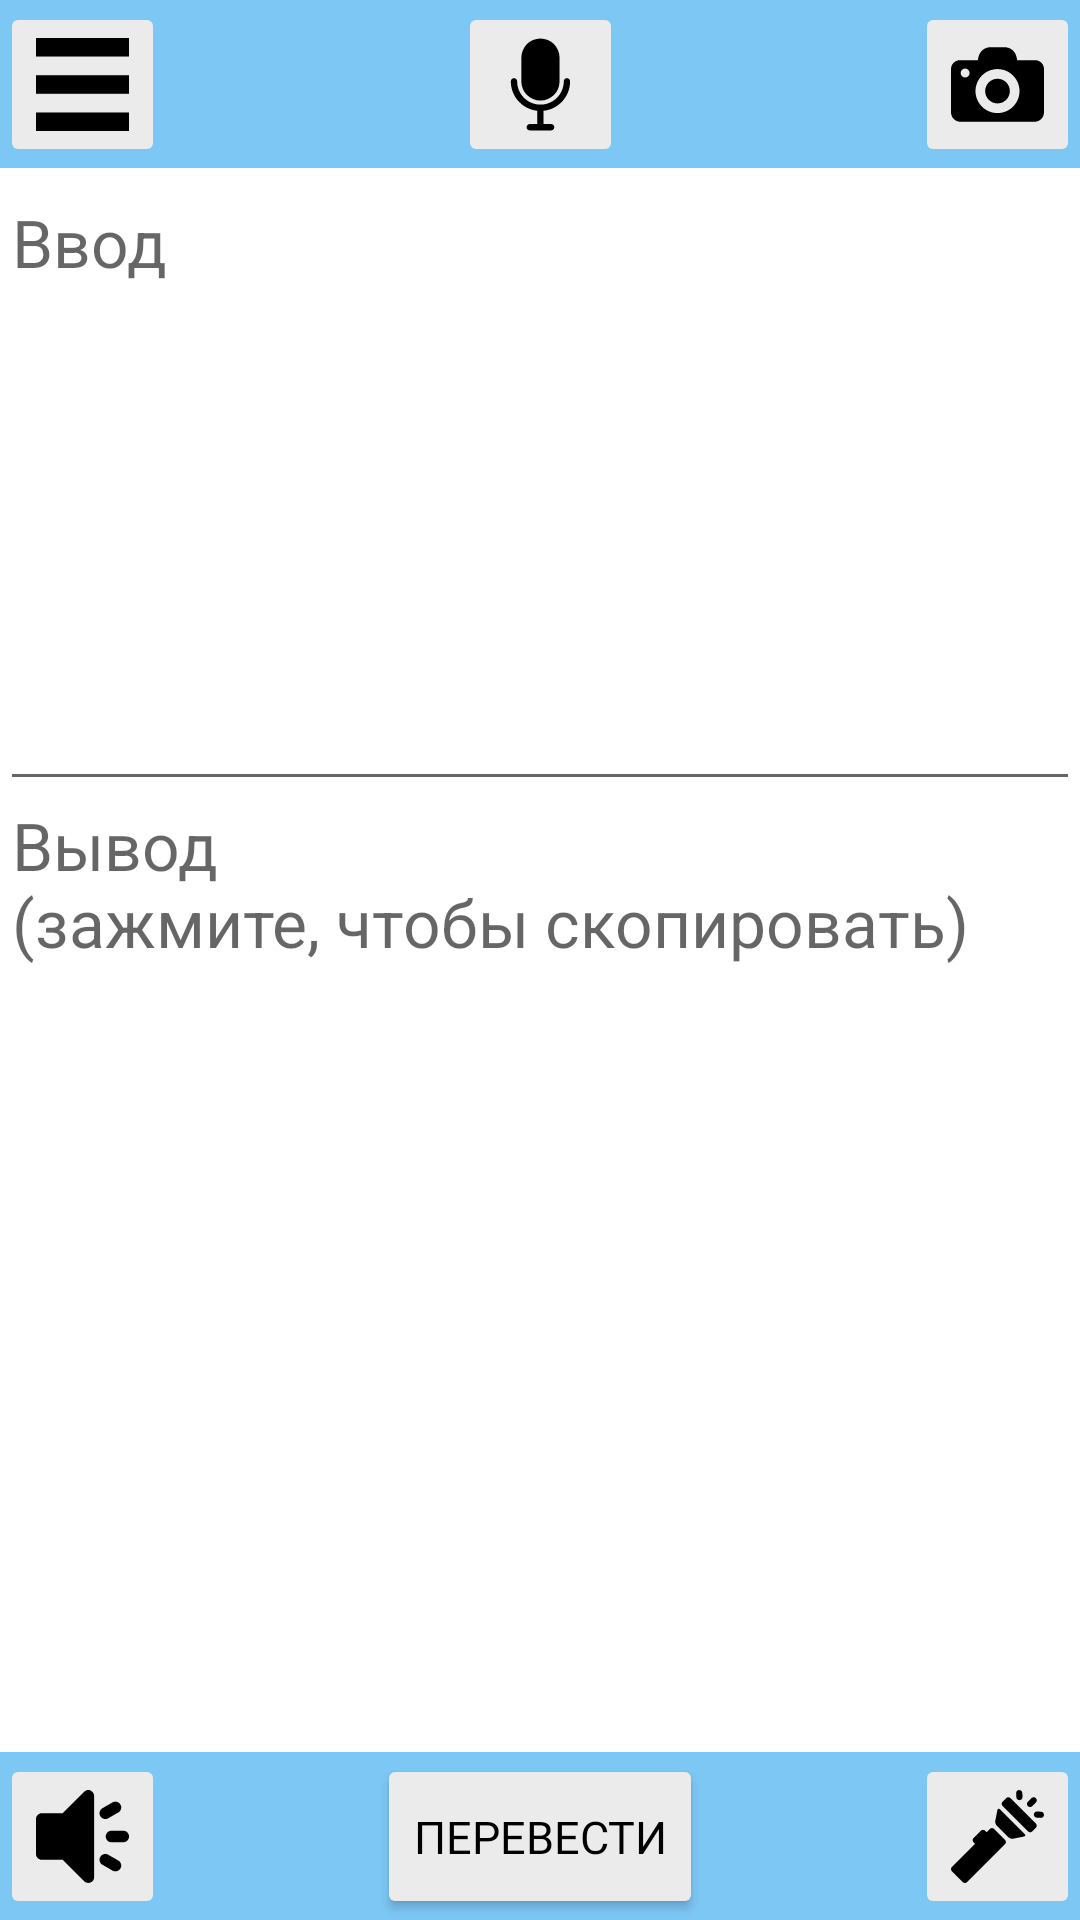

Where to tap for icons on this 1080 x 1920 app screen, as (x=x, y=y):
Включить камеру: (x=997, y=84)
Воспроизвести звуком: (x=82, y=1836)
Воспроизвести фонариком: (x=997, y=1836)
Записать сообщение: (x=540, y=84)
